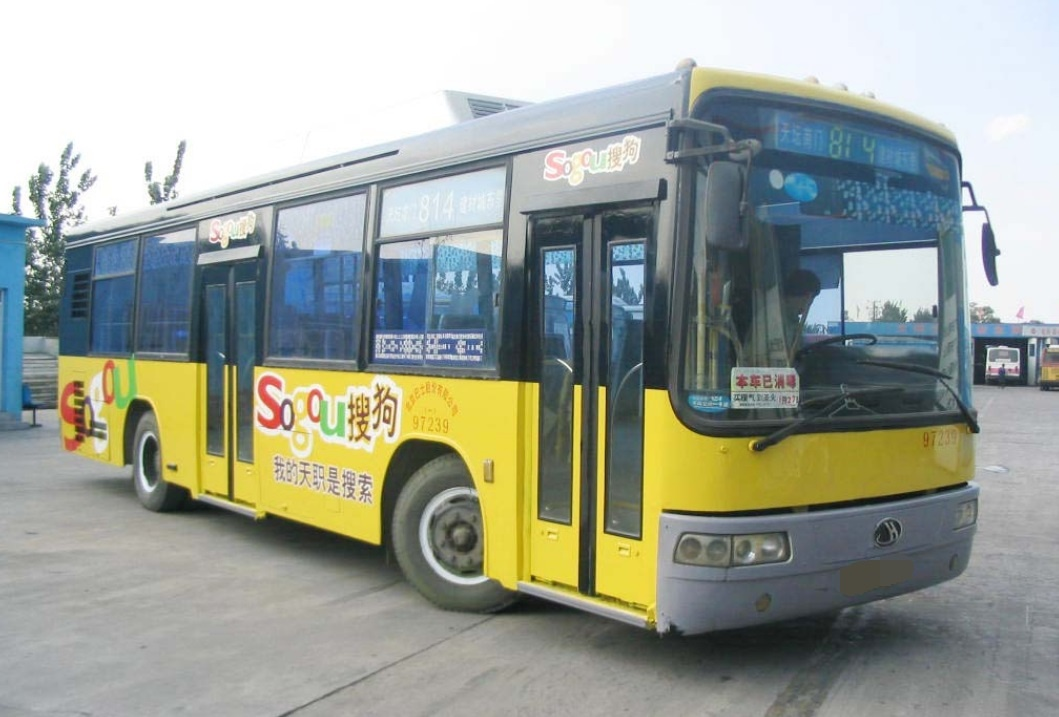bus: (64, 79, 982, 647)
